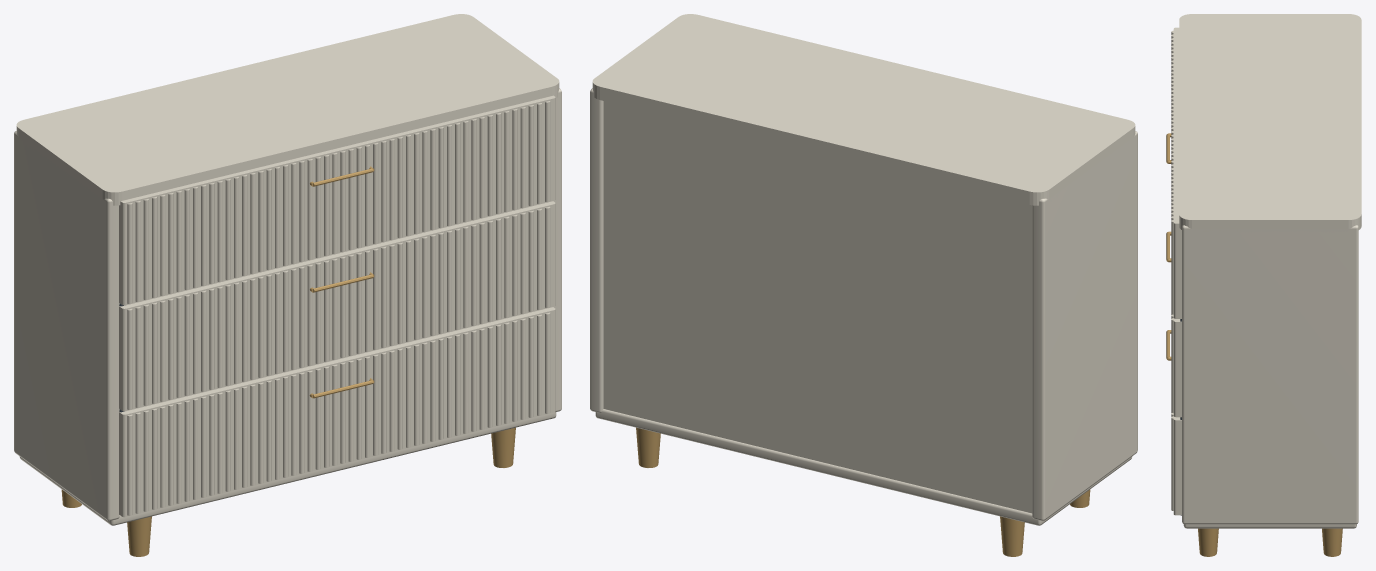
Rendered from designed-dresser-fluted.glb.
3 views of the same model, side by side, from view 1: azimuth 30°, elevation 25°; view 2: azimuth 150°, elevation 25°; view 3: azimuth 270°, elevation 25° (orthographic). The views are drawn at different scales.
Parts seen in each view (by area): view 1: designed-dresser-fluted authored assembly; view 2: designed-dresser-fluted authored assembly; view 3: designed-dresser-fluted authored assembly.
Boxes of the visible parts, x1,y1,x2,y2 form: designed-dresser-fluted authored assembly: (14, 14, 561, 556); designed-dresser-fluted authored assembly: (590, 14, 1137, 556); designed-dresser-fluted authored assembly: (1166, 14, 1361, 556).
Bounding box in the file's own units: 1 × 0.8 × 0.4.
